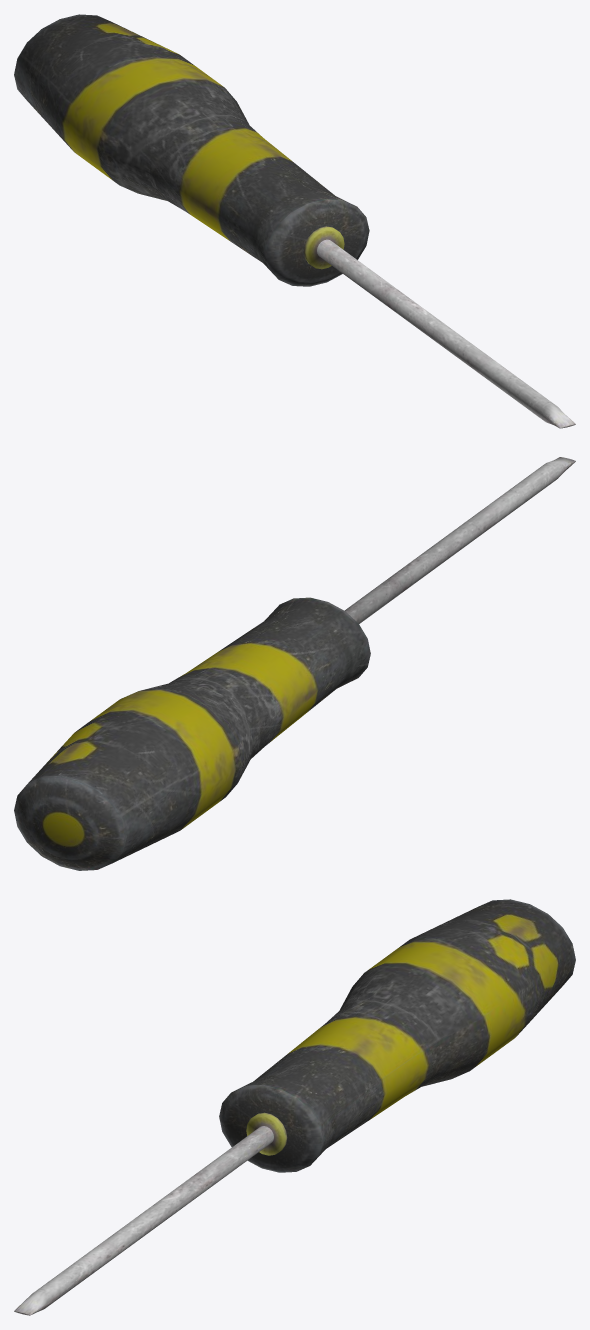
The model's file is Herr_destornillador.obj.
3 renders of one model, top to bottom at view 1: azimuth 30°, elevation 25°; view 2: azimuth 150°, elevation 25°; view 3: azimuth 330°, elevation 25°, orthographic.
Visible parts, largest first — view 1: Herr_destornillador; view 2: Herr_destornillador; view 3: Herr_destornillador.
Part boxes in pixels (left/top/right/bottom): Herr_destornillador: left=14, top=14, right=575, bottom=428; Herr_destornillador: left=14, top=457, right=575, bottom=870; Herr_destornillador: left=14, top=899, right=575, bottom=1315.
Bounding box in the file's own units: 0.037 × 0.0284 × 0.2353.
1 material, 1 textured.
